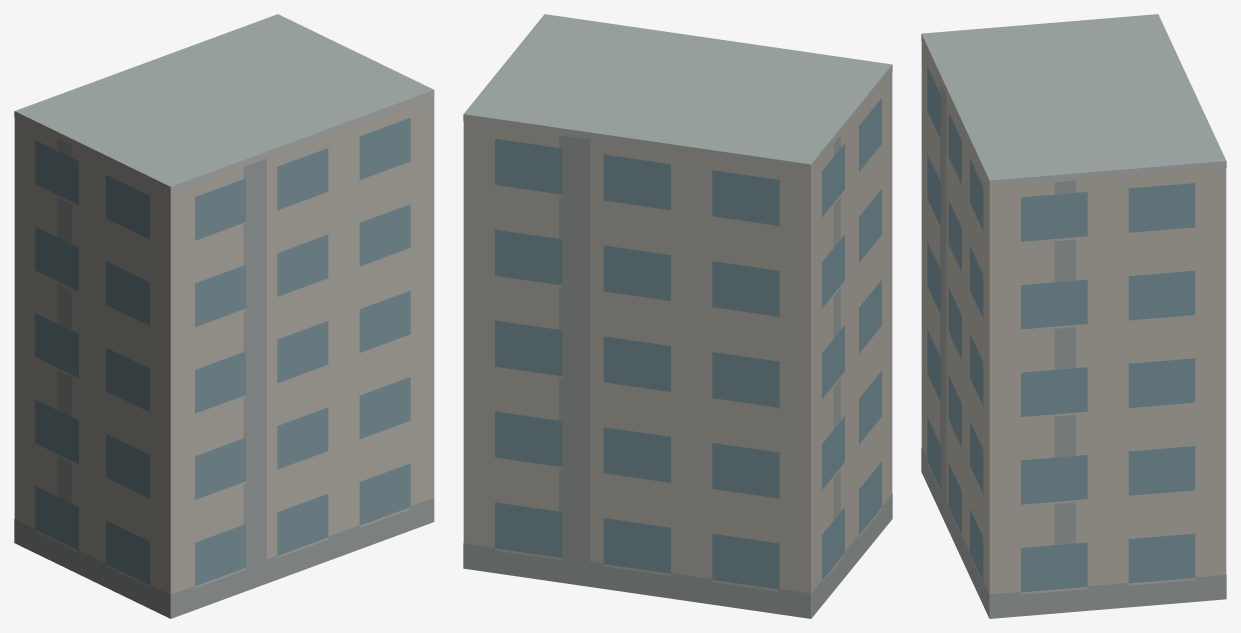
File: residential-7825b744-d837-45ff-81ab-16965e38c507.glb
3 renders of one model, left to right at view 1: azimuth 30°, elevation 25°; view 2: azimuth 150°, elevation 25°; view 3: azimuth 270°, elevation 25°, orthographic. The views are drawn at different scales.
Visible parts, largest first — view 1: residential-7825b744-d837-45ff-81ab-16965e38c507.tmp; view 2: residential-7825b744-d837-45ff-81ab-16965e38c507.tmp; view 3: residential-7825b744-d837-45ff-81ab-16965e38c507.tmp.
Part boxes in pixels (x1,y1,x2,y2): residential-7825b744-d837-45ff-81ab-16965e38c507.tmp: [14, 14, 434, 618]; residential-7825b744-d837-45ff-81ab-16965e38c507.tmp: [463, 14, 892, 618]; residential-7825b744-d837-45ff-81ab-16965e38c507.tmp: [921, 14, 1226, 618].
Bounding box in the file's own units: 12.45 × 15.25 × 9.63.
